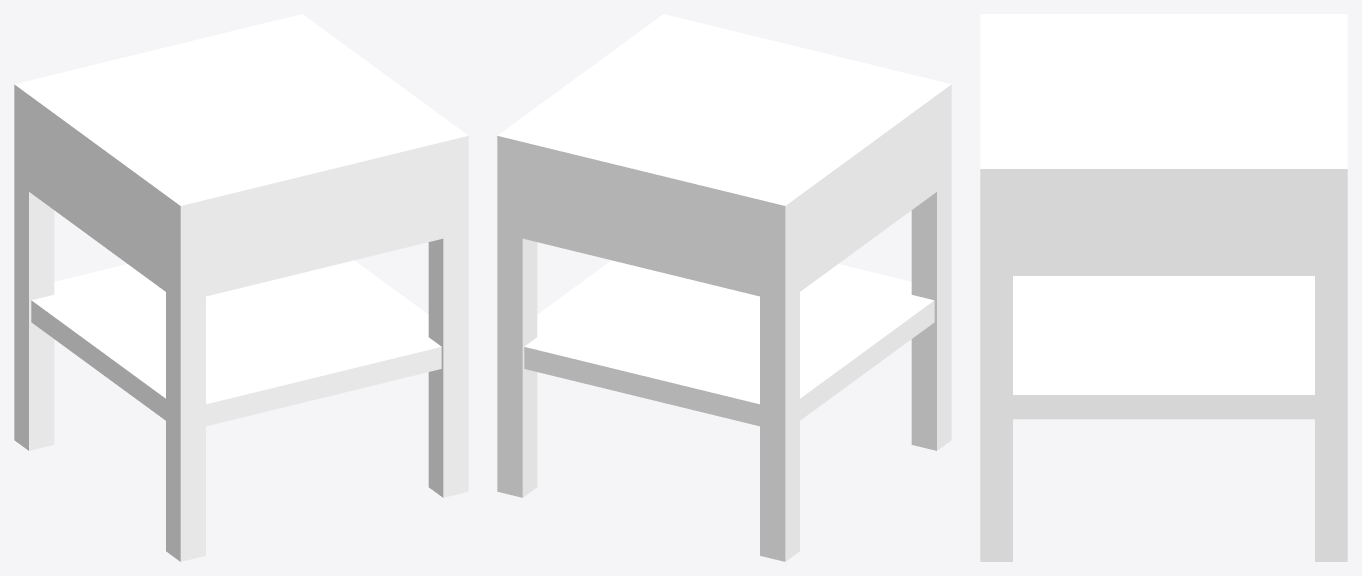
Rendered from EndTable1.glb.
3 renders of one model, left to right at view 1: azimuth 30°, elevation 25°; view 2: azimuth 150°, elevation 25°; view 3: azimuth 270°, elevation 25°, orthographic. The views are drawn at different scales.
Visible parts, largest first — view 1: EndTable1; view 2: EndTable1; view 3: EndTable1.
Boxes of the visible parts, box(x1,y1,x2,y2) form: EndTable1: box(14, 14, 468, 561); EndTable1: box(497, 14, 951, 561); EndTable1: box(980, 14, 1347, 561).
Size of what is drawn, in the model's own units: 0.5101 by 0.6022 by 0.5101.
1 material, 1 textured.
